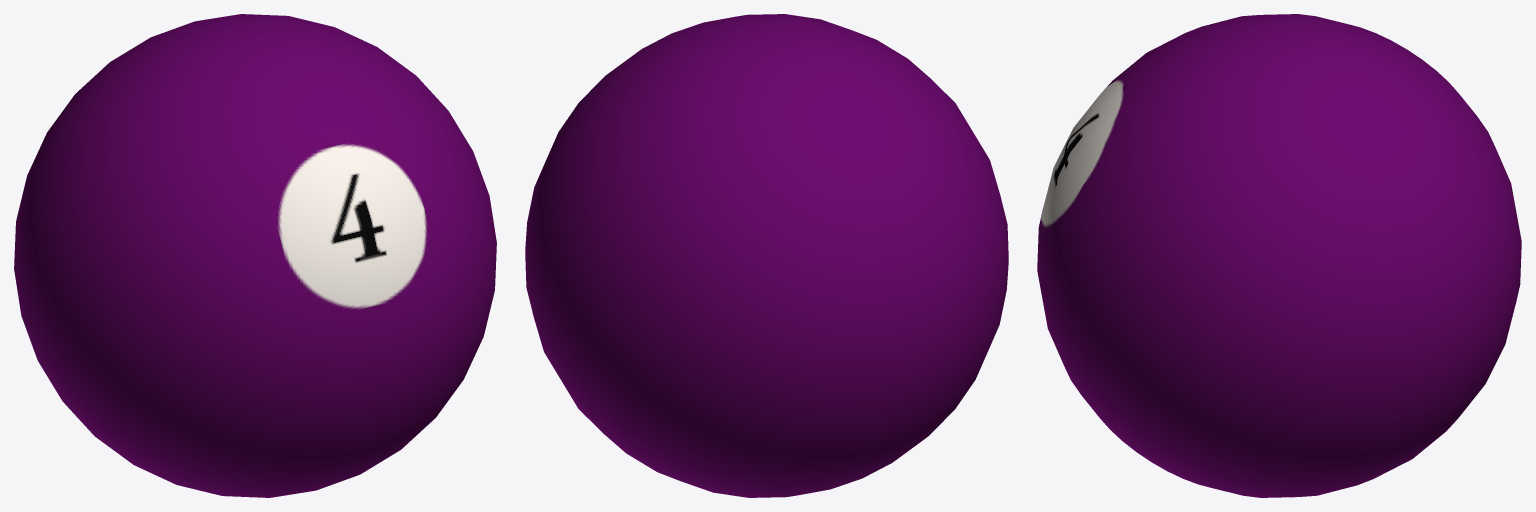
Rendered from ball4.obj.
3 renders of one model, left to right at view 1: azimuth 30°, elevation 25°; view 2: azimuth 150°, elevation 25°; view 3: azimuth 270°, elevation 25°, orthographic.
Parts seen in each view (by area): view 1: Ball4_Mesh.004; view 2: Ball4_Mesh.004; view 3: Ball4_Mesh.004.
Boxes of the visible parts, left/top/right/bottom form: Ball4_Mesh.004: left=14, top=14, right=496, bottom=497; Ball4_Mesh.004: left=525, top=14, right=1008, bottom=497; Ball4_Mesh.004: left=1037, top=14, right=1521, bottom=497.
Size of the model in its own units: 0.9617 by 0.9597 by 0.9597.
1 material, 1 textured.
